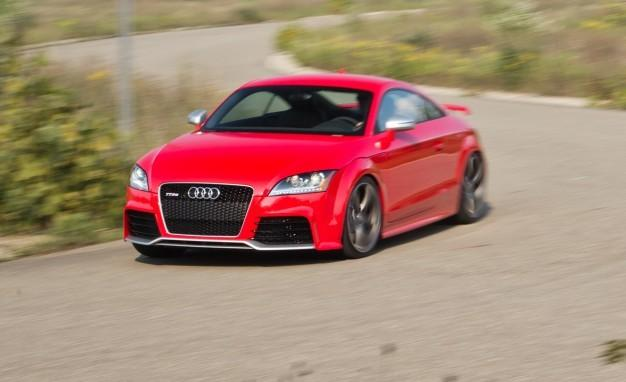Audi: (181, 181, 227, 207)
